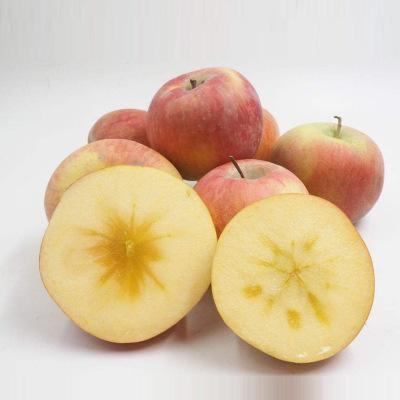apple: (146, 65, 270, 180)
